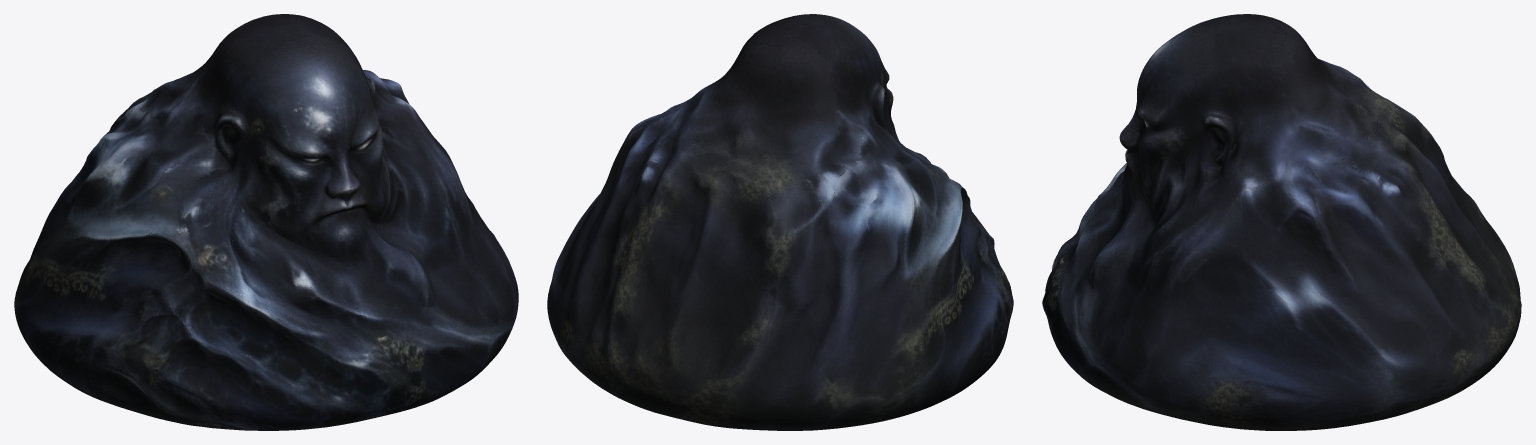
File: umibozu.glb
3 views of the same model, side by side, from view 1: azimuth 30°, elevation 25°; view 2: azimuth 150°, elevation 25°; view 3: azimuth 270°, elevation 25° (orthographic). The views are drawn at different scales.
Visible parts, largest first — view 1: temp_mesh.ply; view 2: temp_mesh.ply; view 3: temp_mesh.ply.
Boxes of the visible parts, <box> form: temp_mesh.ply: <box>14,14,518,430</box>; temp_mesh.ply: <box>547,14,1013,430</box>; temp_mesh.ply: <box>1042,14,1521,430</box>.
Size of the model in its own units: 1.97 by 1.44 by 1.95.
Materials: 1 (1 with a texture image).
